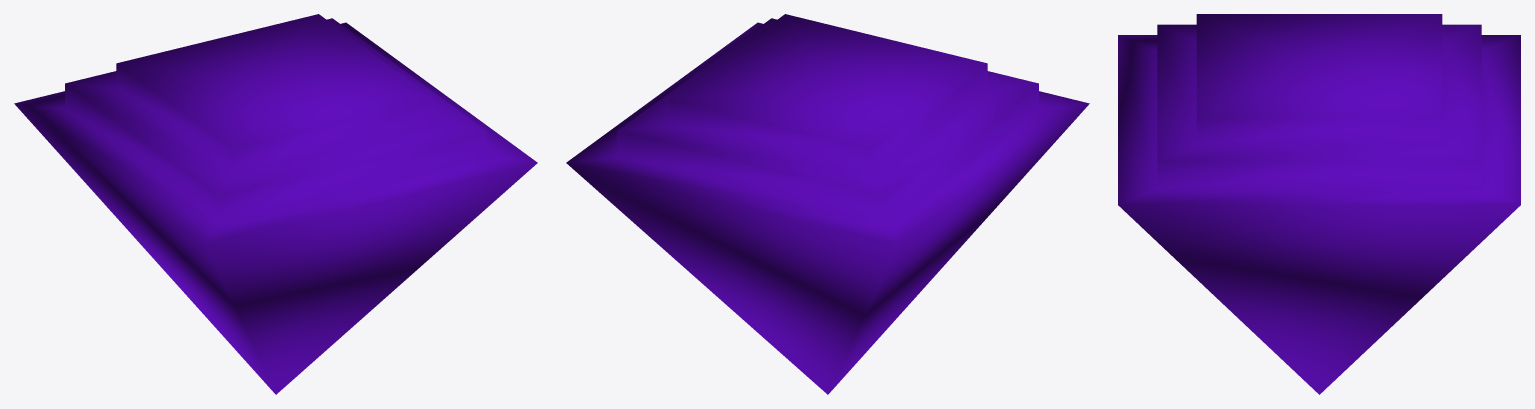
3 renders of one model, left to right at view 1: azimuth 30°, elevation 25°; view 2: azimuth 150°, elevation 25°; view 3: azimuth 270°, elevation 25°, orthographic. The views are drawn at different scales.
Parts seen in each view (by area): view 1: Pyramid005; view 2: Pyramid005; view 3: Pyramid005.
Boxes of the visible parts, x1=… form: Pyramid005: x1=14, y1=14, x2=537, y2=394; Pyramid005: x1=566, y1=14, x2=1089, y2=394; Pyramid005: x1=1118, y1=14, x2=1520, y2=394.
Bounding box in the file's own units: 41.19 × 37.14 × 41.19.
